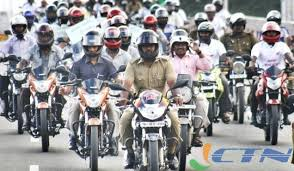helmet: (132, 29, 163, 62), (80, 29, 106, 59), (170, 28, 193, 55), (32, 23, 55, 50), (7, 14, 29, 40), (259, 21, 282, 45), (102, 26, 123, 51), (228, 12, 248, 37), (197, 23, 217, 46)
